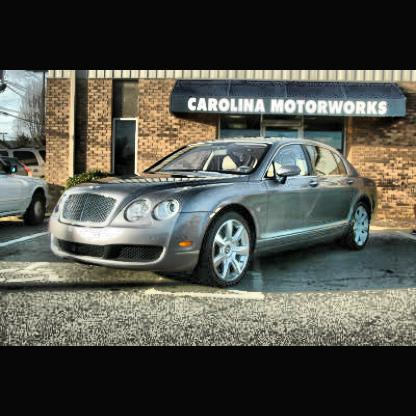Bentley Continental Flying Spur Sedan 2007: (51, 139, 378, 288)
